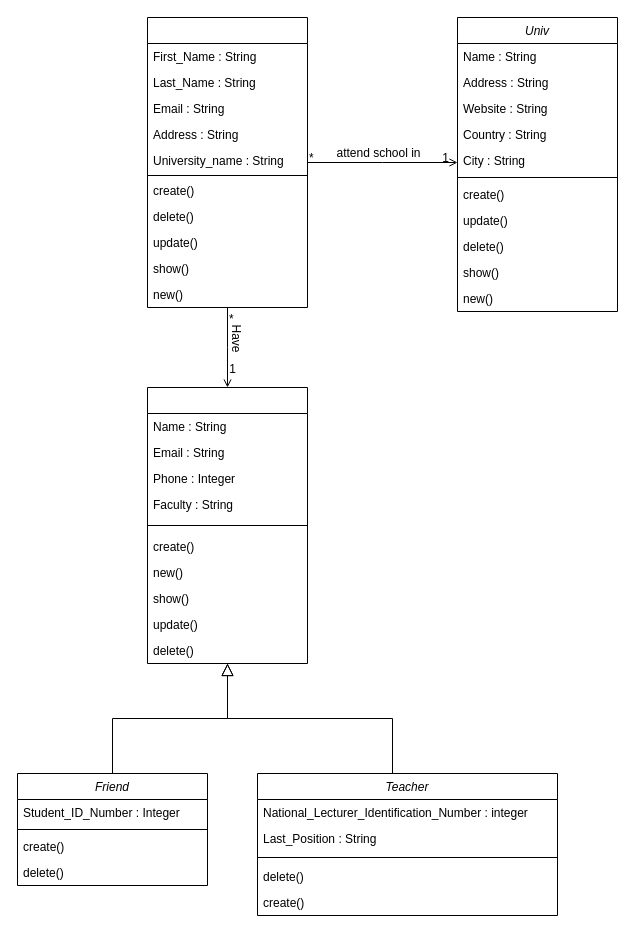
Image size: 635x936. Some labels were removed from this diagram. The box of each missing label's shape, as (x1, y1, x2, y2) in pixels:
Contact: (146, 386, 308, 664)
User: (146, 16, 308, 308)
